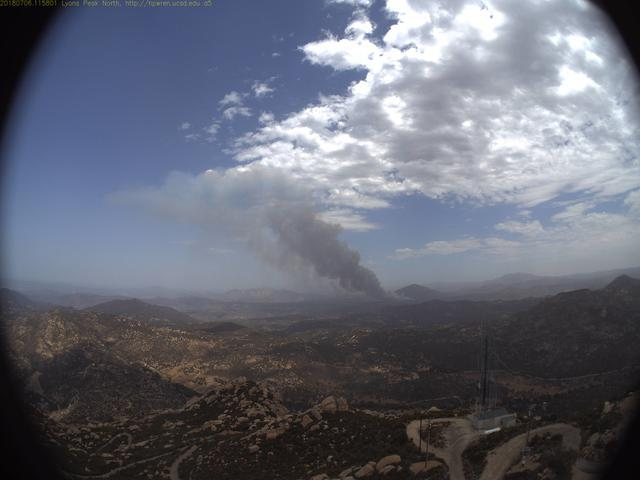smoke: (171, 167, 396, 311)
